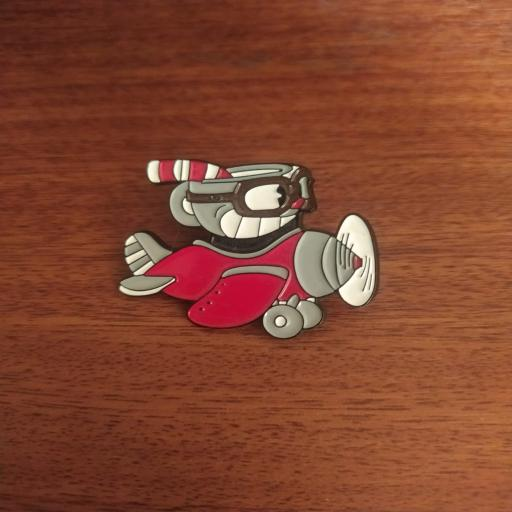Pin: (104, 149, 388, 347)
